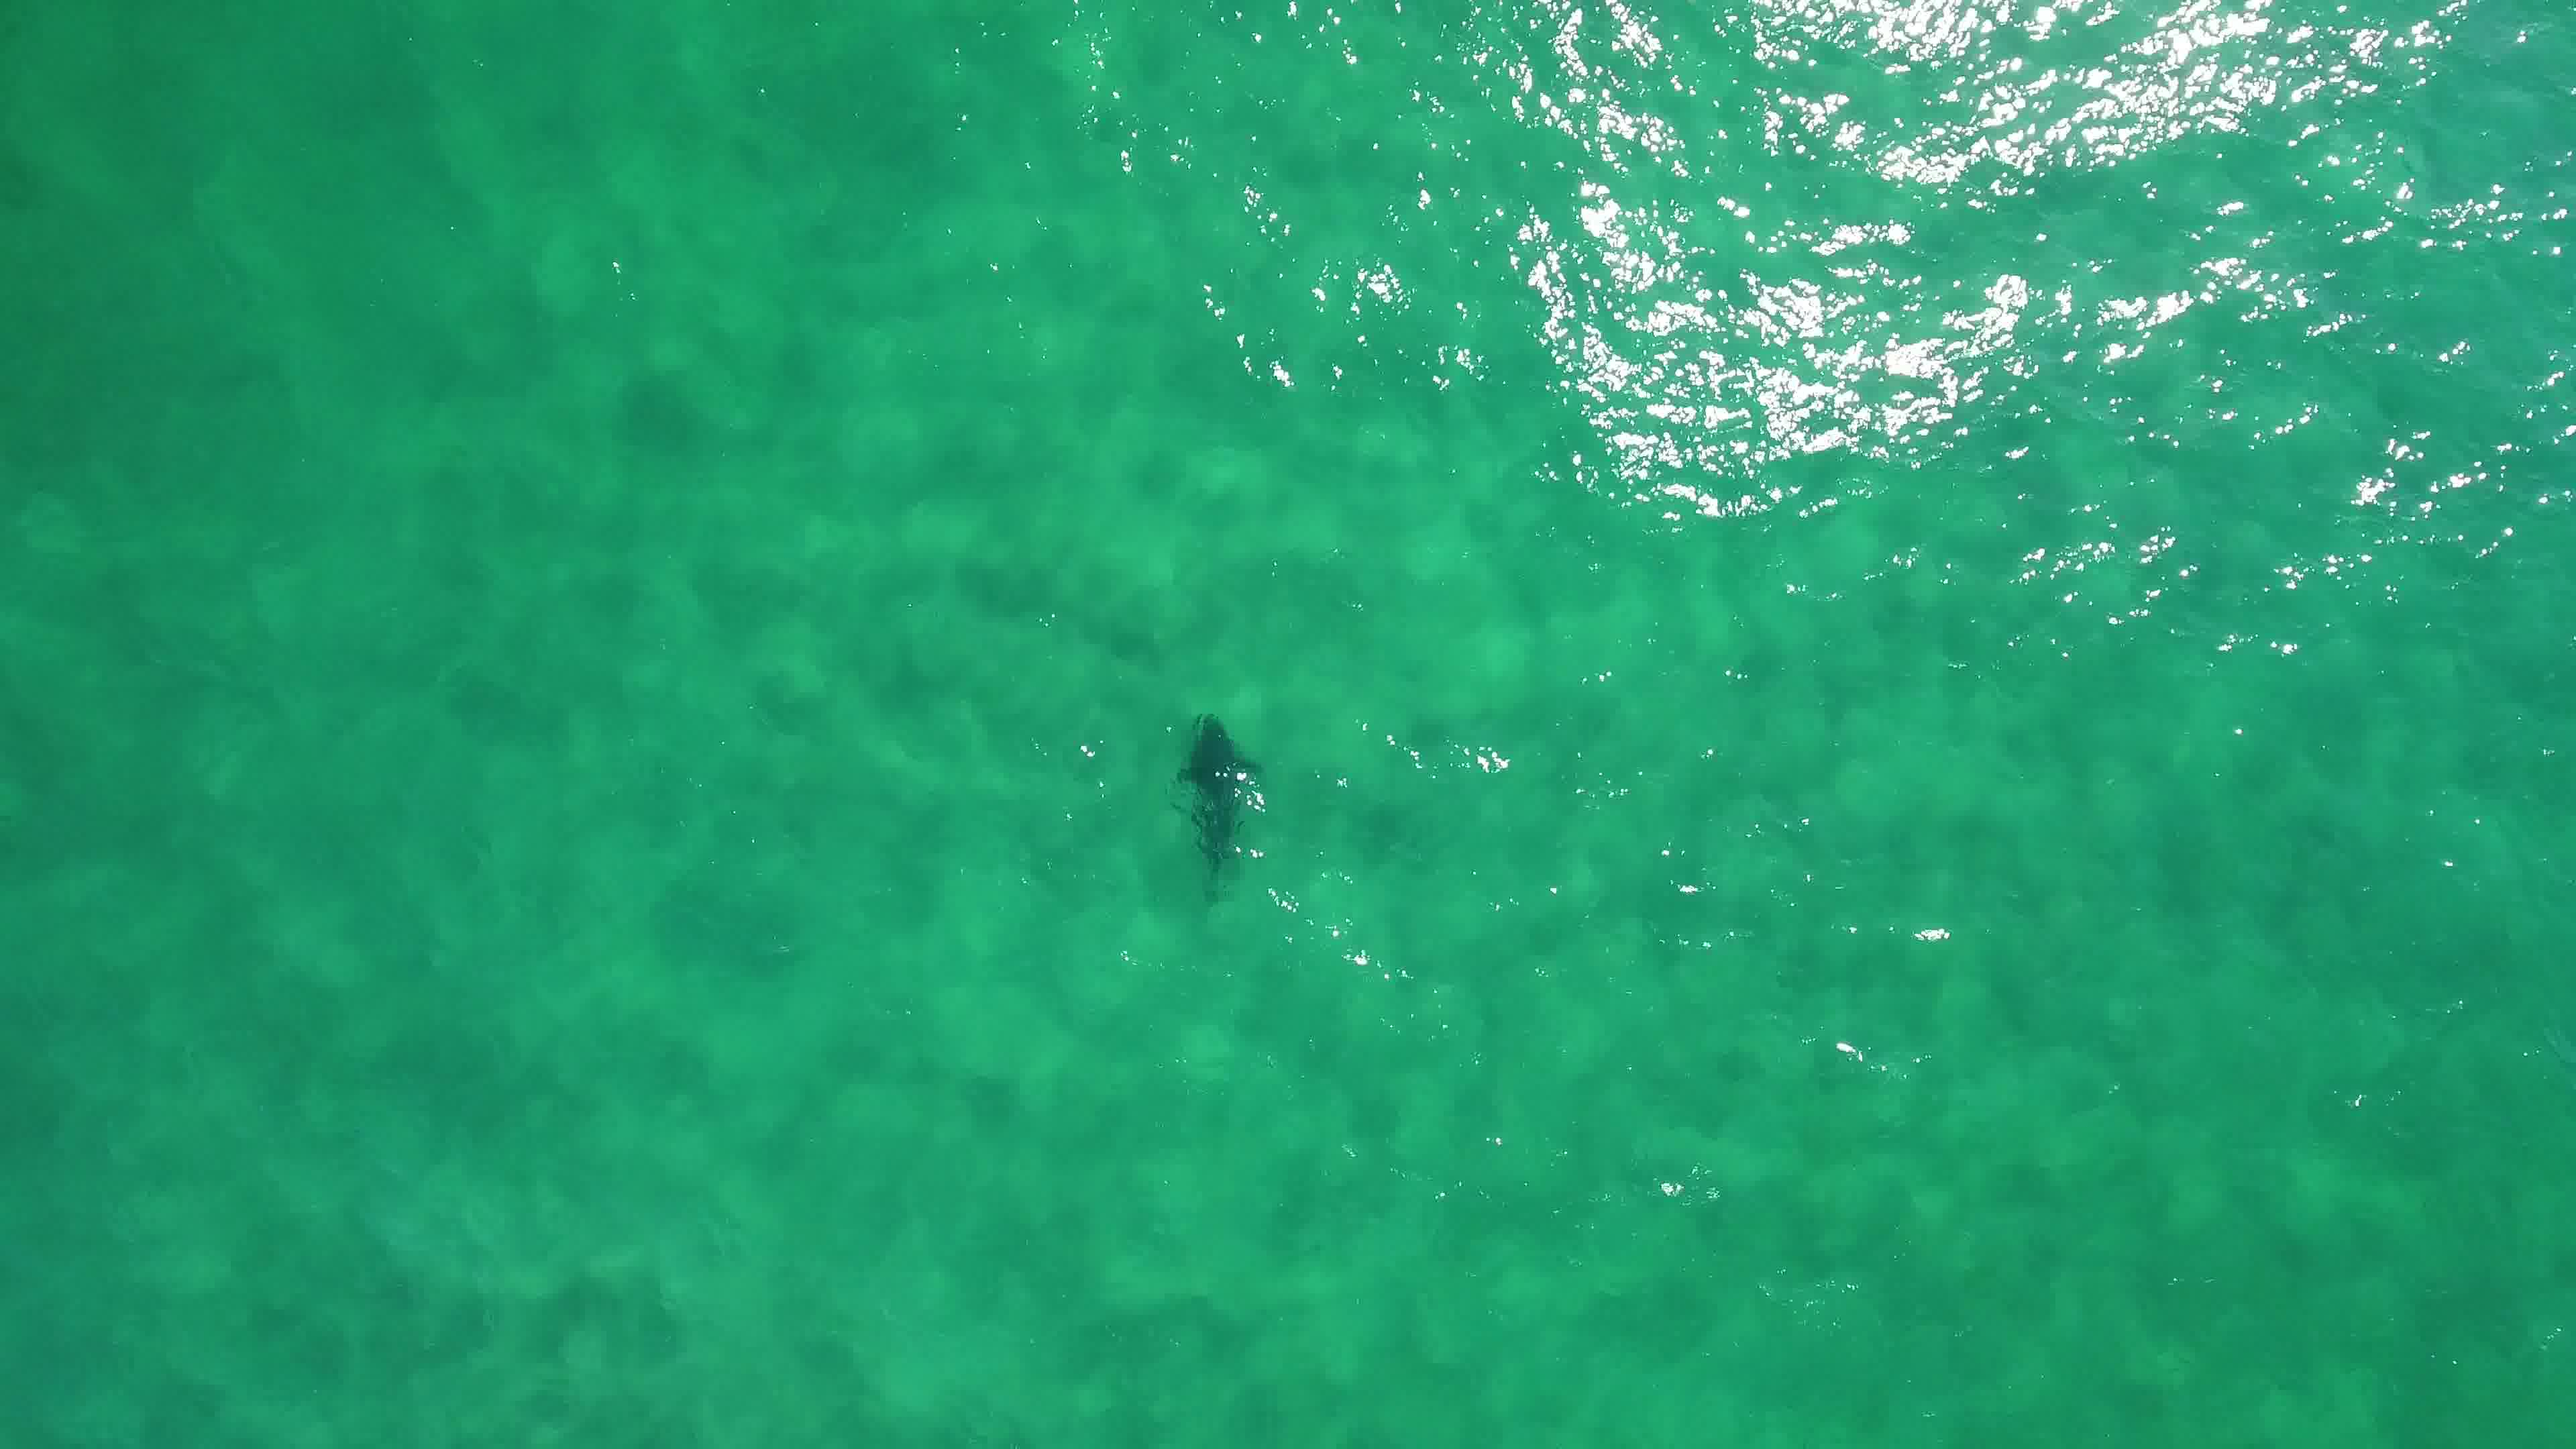shark: (1169, 706, 1269, 906)
